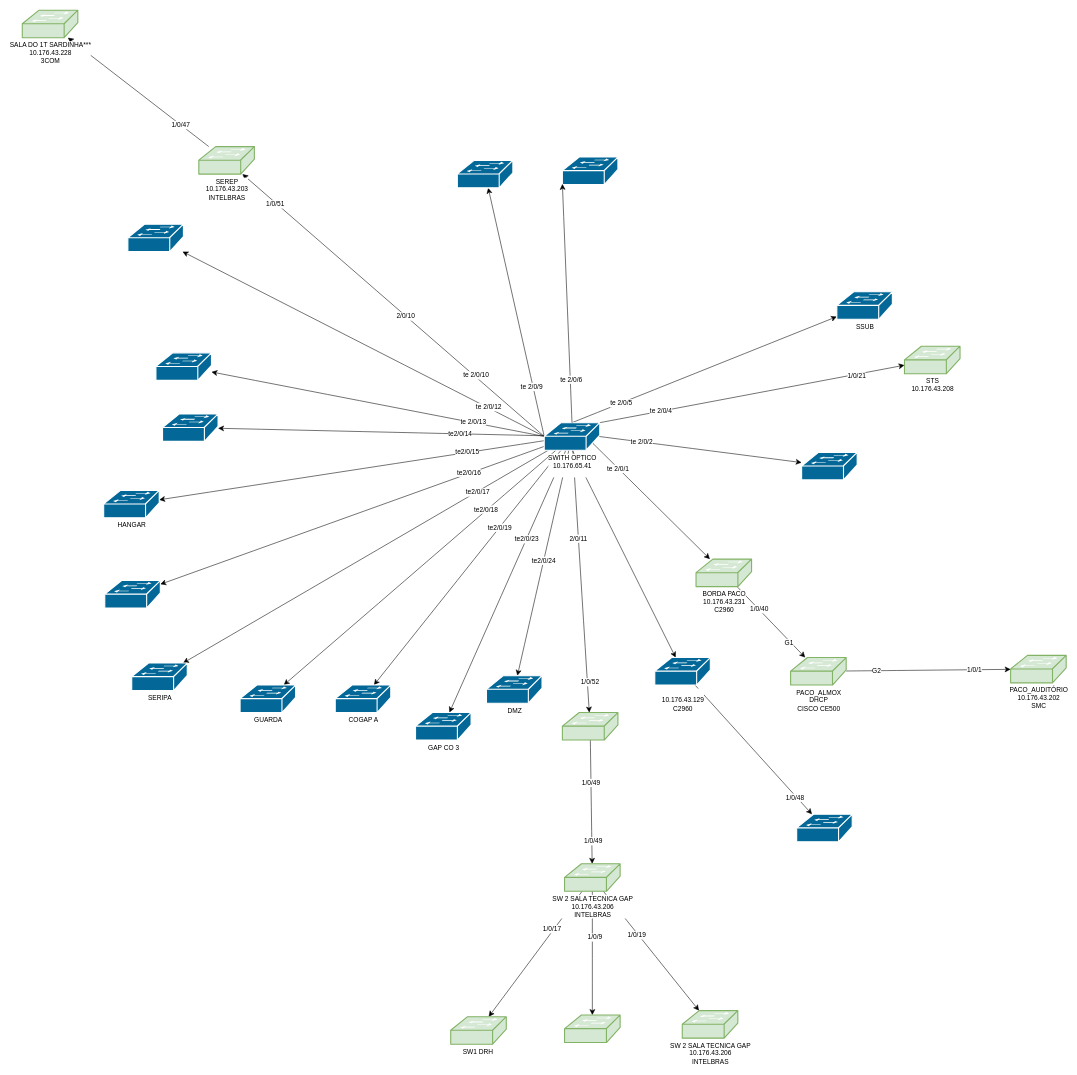
The diagram is 1077 pixels wide and 1075 high, and some of its shapes have lost their labels. The shapes that lost their labels are listed below. From the top down, each one's box as (x1, y1, x2, y2) in pixels, then its label:
(457, 160, 513, 188): HACO
(562, 156, 618, 185): SEM DESCRIÇÃO
(127, 223, 184, 252): ALMOX
(155, 352, 212, 381): NUSESO
(162, 413, 218, 442): SUL
(801, 452, 857, 480): A2
(104, 580, 161, 608): HACO EMERGENCIA
(562, 712, 618, 740): SW 1 SALA TECNICA GAP 10.176.43.205 INTELBRAS
(564, 1014, 620, 1043): SW 2 DRH
